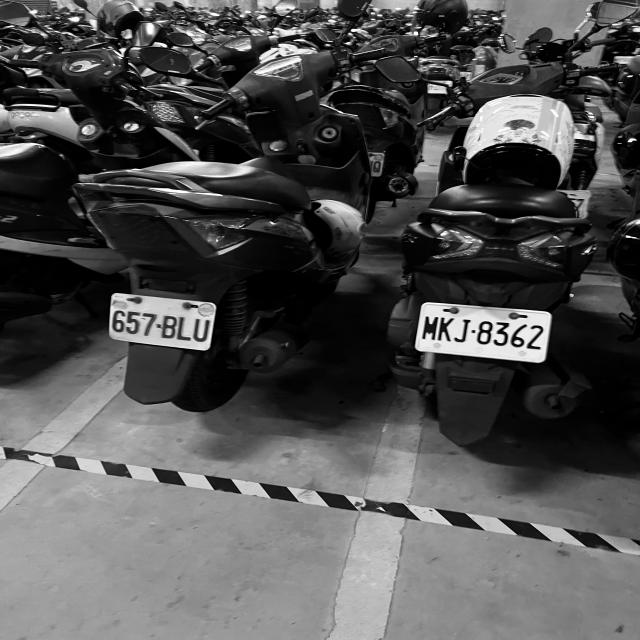-: (156, 322, 162, 329), (470, 328, 476, 334)
2: (525, 323, 546, 350)
3: (494, 320, 509, 346)
5: (124, 311, 142, 336)
6: (509, 323, 529, 348), (111, 310, 127, 334)
7: (141, 312, 158, 337)
8: (477, 320, 492, 344)
B: (160, 314, 179, 340)
J: (453, 319, 473, 343)
K: (436, 317, 455, 342)
L: (176, 316, 193, 341)
M: (420, 315, 440, 341)
Q: (372, 161, 382, 173)
U: (192, 318, 211, 343)
plate: (416, 305, 550, 360), (109, 295, 215, 349)
